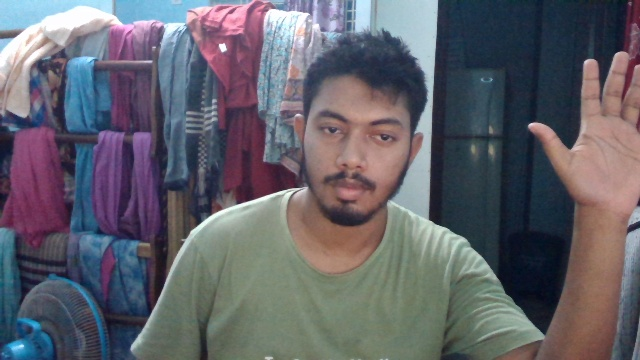hello: (525, 48, 640, 225)
